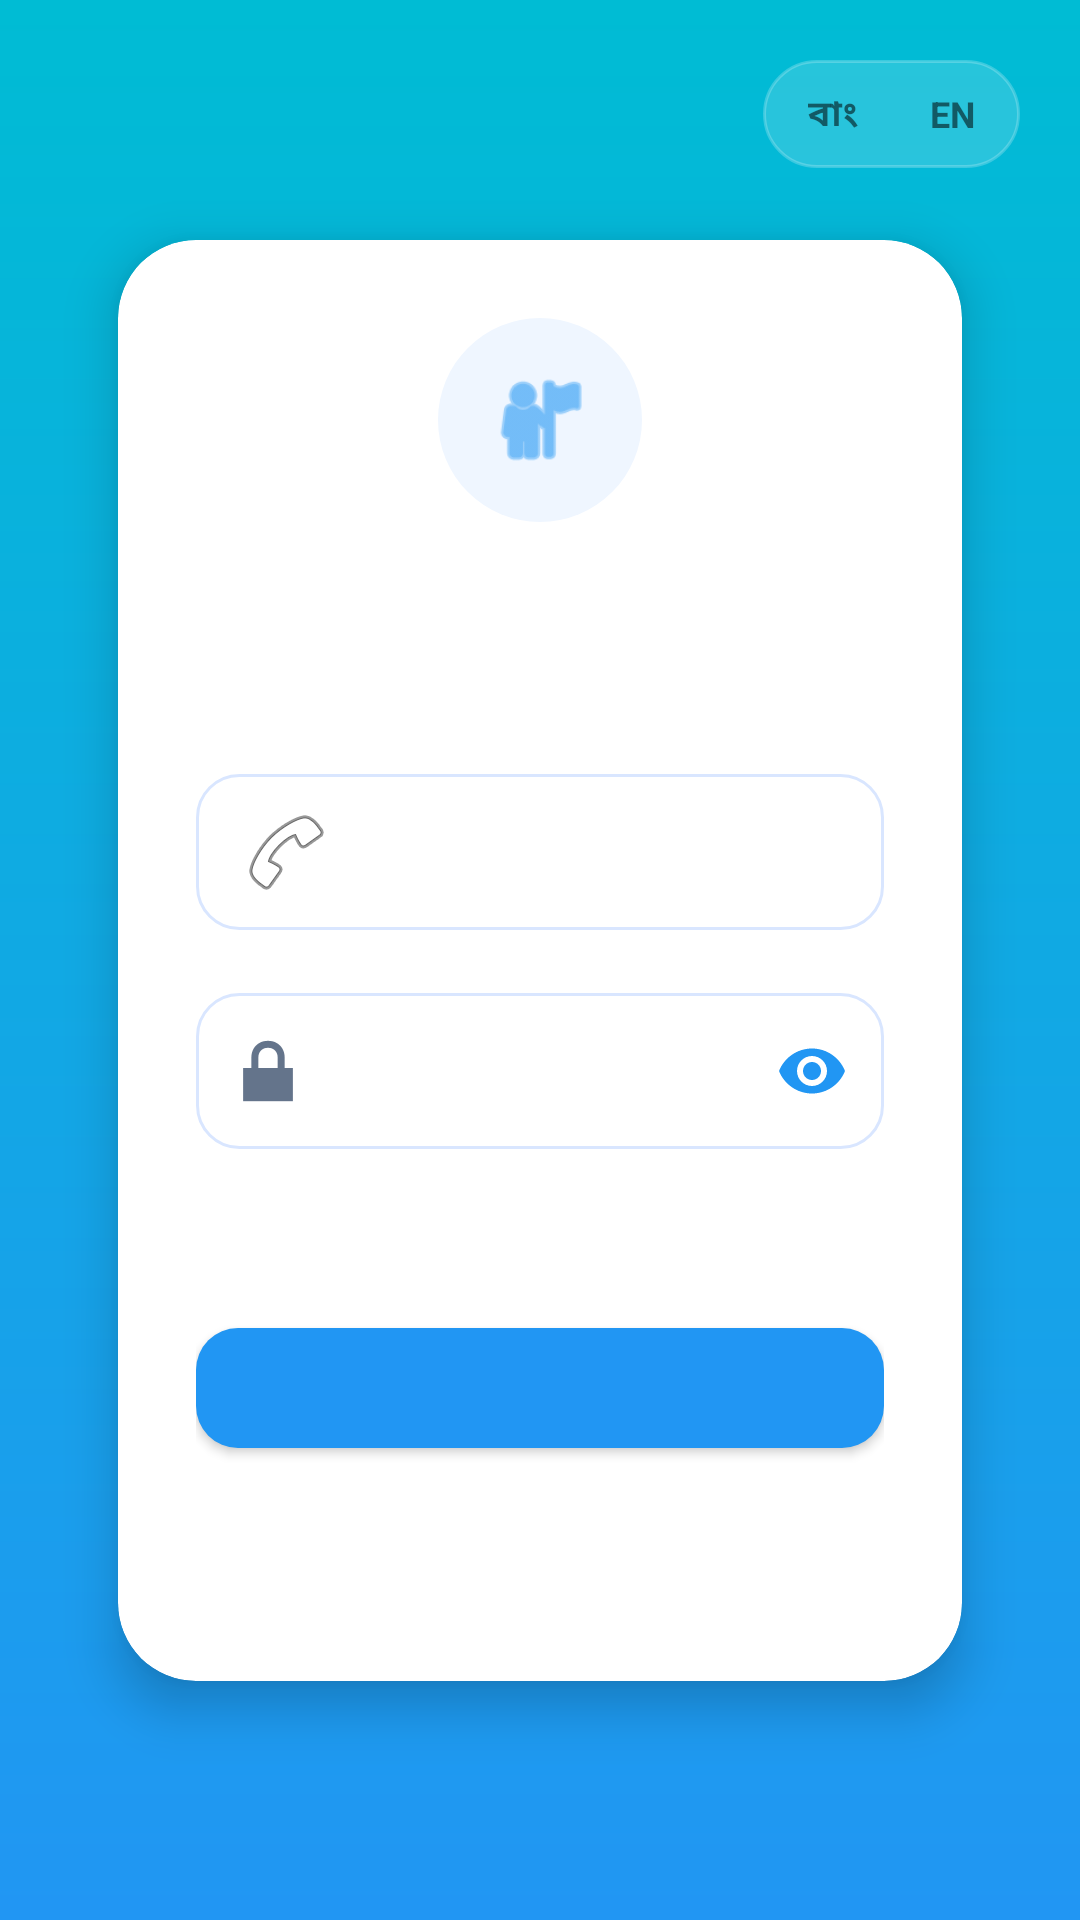

Icons on this 1080px×1920px Android screen, each with its box as (x1, y1, x2, y2):
myplaces: (501, 380, 582, 460)
